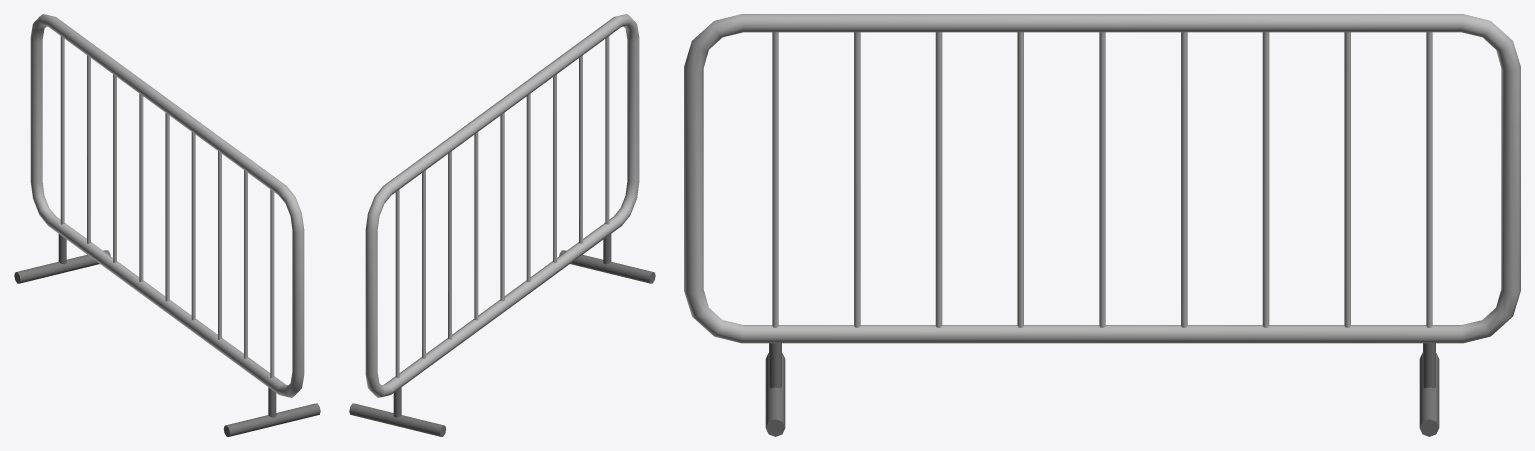
The model's file is FenceMetal4_1.fbx.
The picture shows the model from 3 angles, left to right: view 1: azimuth 30°, elevation 25°; view 2: azimuth 150°, elevation 25°; view 3: azimuth 270°, elevation 25°; orthographic projection. The views are drawn at different scales.
Visible parts, largest first — view 1: Plane.301; view 2: Plane.301; view 3: Plane.301.
Boxes of the visible parts, bbox=[...] form: Plane.301: bbox=[14, 14, 320, 436]; Plane.301: bbox=[349, 14, 655, 436]; Plane.301: bbox=[684, 14, 1520, 436].
Bounding box in the file's own units: 50 × 131 × 256.
